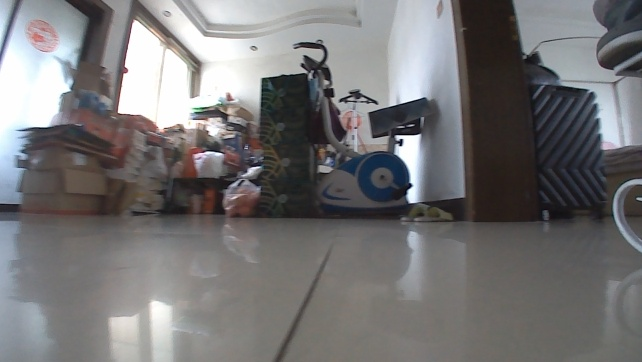bed1: (600, 141, 641, 220)
slipper: (396, 199, 455, 224)
